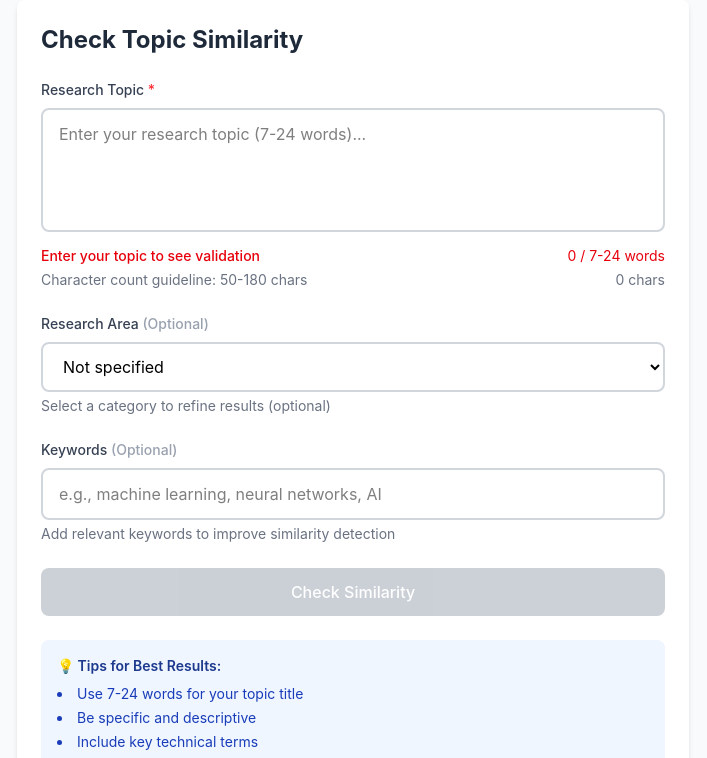
Test: TopicForm Component › Validation Tests › 6. shows red border when word count > 24
Type "one two three four five six seven eight nine ten eleven twelve thirteen fourteen fifteen sixteen seventeen eighteen nineteen twenty twentyone twentytwo twentythree twentyfour twentyfive" into the text box with placeholder "Enter your research topic (7-24 words)...".
click(353, 170); type("one two three four five six seven eight nine ten eleven twelve thirteen fourteen fifteen sixteen seventeen eighteen nineteen twenty twentyone twentytwo twentythree twentyfour twentyfive")  # box [41,108,665,232]
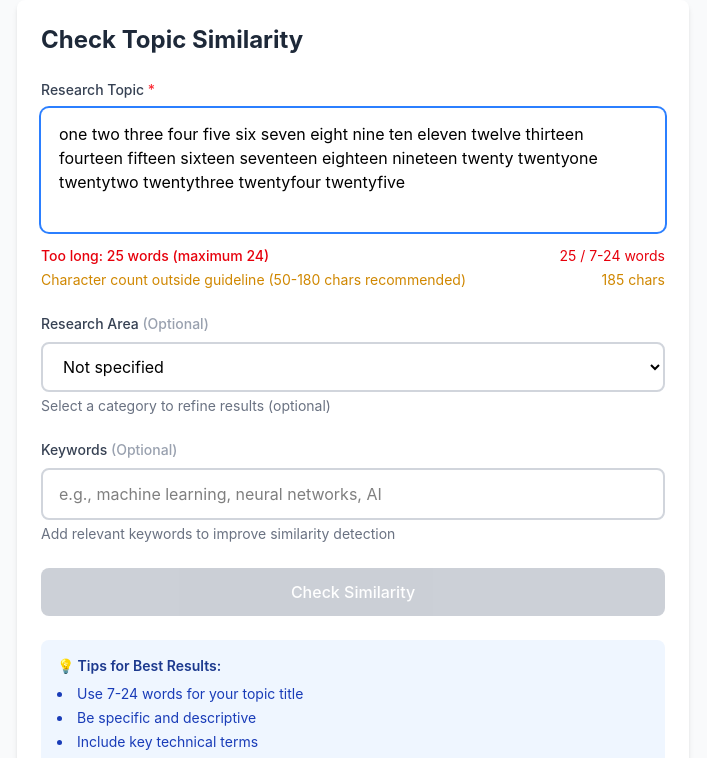
Expected: the text "Too long: 25 words (maximum 24)" is shown, [41,246,269,266]
